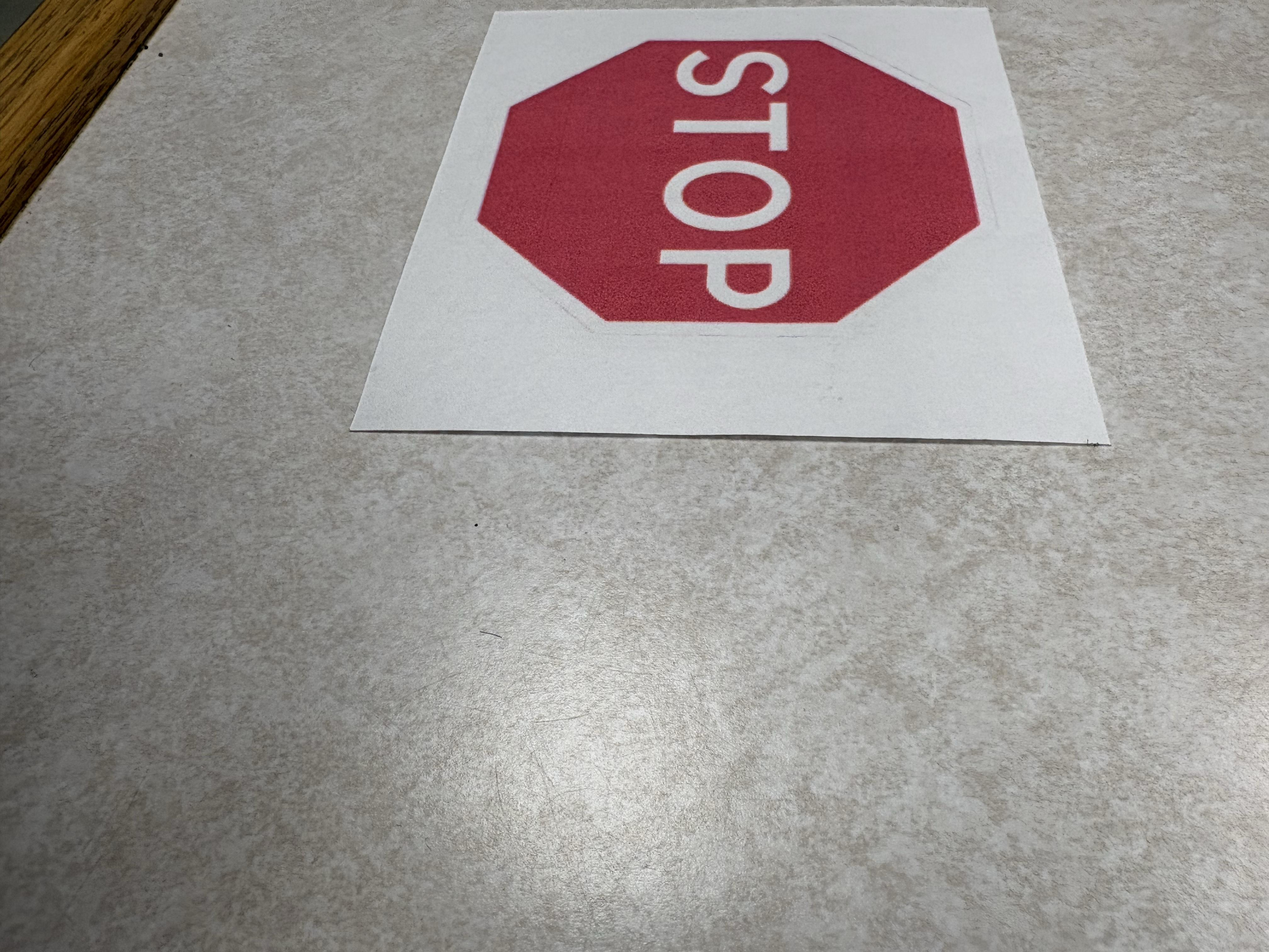Stop: (354, 8, 1110, 448)
